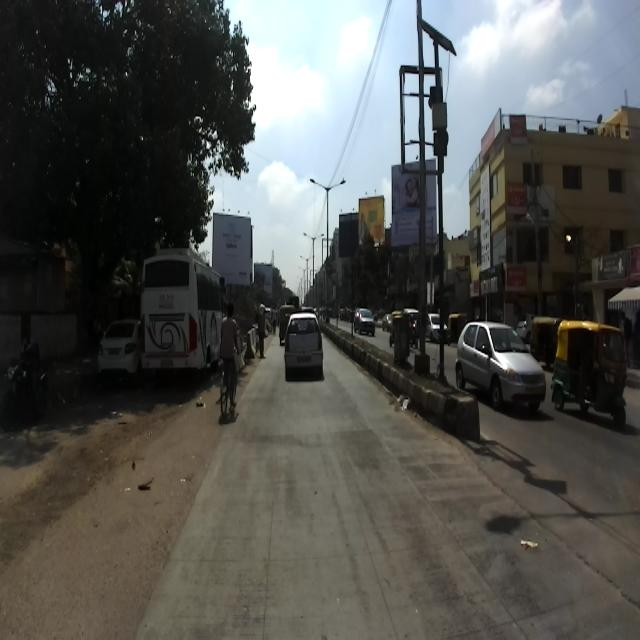bicycle ahead at: (216, 367, 240, 429)
bus ahead at: (133, 246, 207, 394)
car ahead at: (280, 308, 326, 387)
